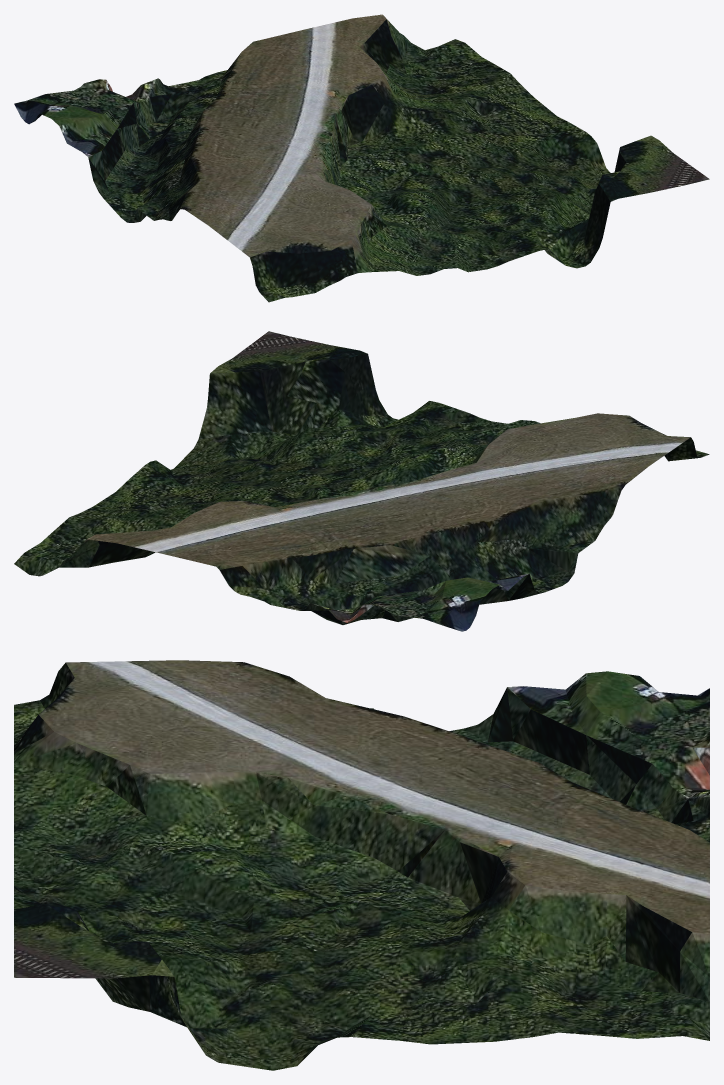
Rendered from map_15_8178_13784.dae.
3 renders of one model, top to bottom at view 1: azimuth 30°, elevation 25°; view 2: azimuth 150°, elevation 25°; view 3: azimuth 270°, elevation 25°, orthographic. The views are drawn at different scales.
Visible parts, largest first — view 1: Ter0; view 2: Ter0; view 3: Ter0.
Boxes of the visible parts, x1=… form: Ter0: x1=14, y1=14, x2=709, y2=302; Ter0: x1=14, y1=331, x2=709, y2=631; Ter0: x1=14, y1=660, x2=709, y2=1070.
Size of the model in its own units: 63.88 by 63.88 by 11.79.
2 materials, 2 textured.
